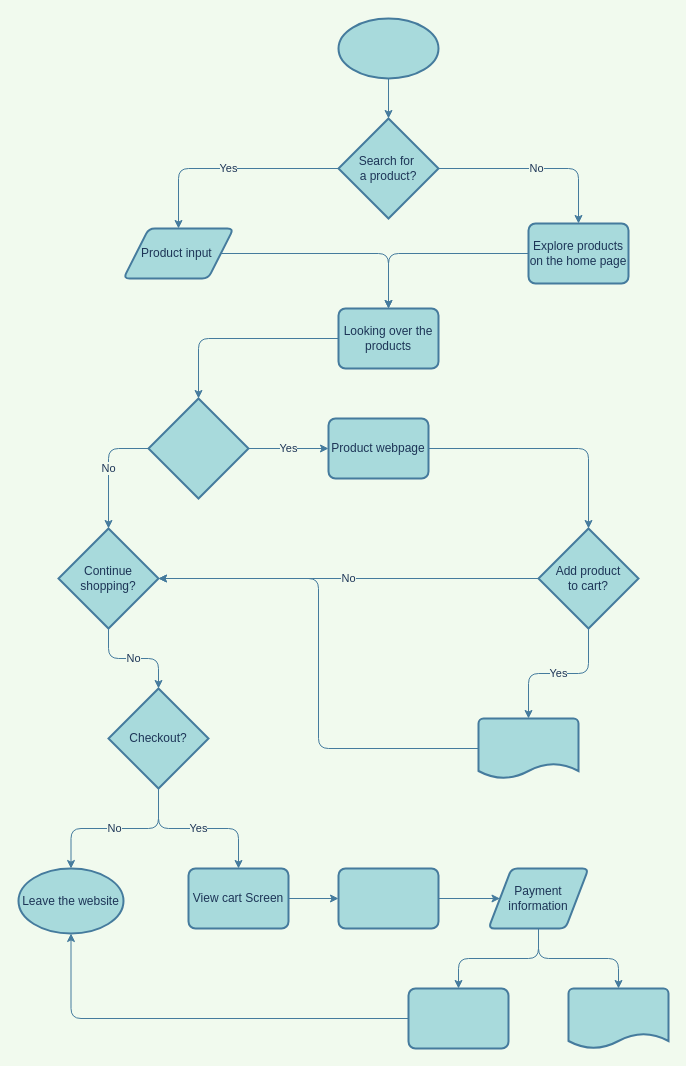
Image size: 686x1066. Some labels were removed from this diagram. The centre of each missing label's shape, as x and y in pixels:
Added confirmation: pixel 528 748
Confirmation email: pixel 618 1018
Order confirmation Screen: pixel 458 1018
User Enter Web: pixel 388 48
View payment Screen: pixel 388 898
View specific product?: pixel 198 448
